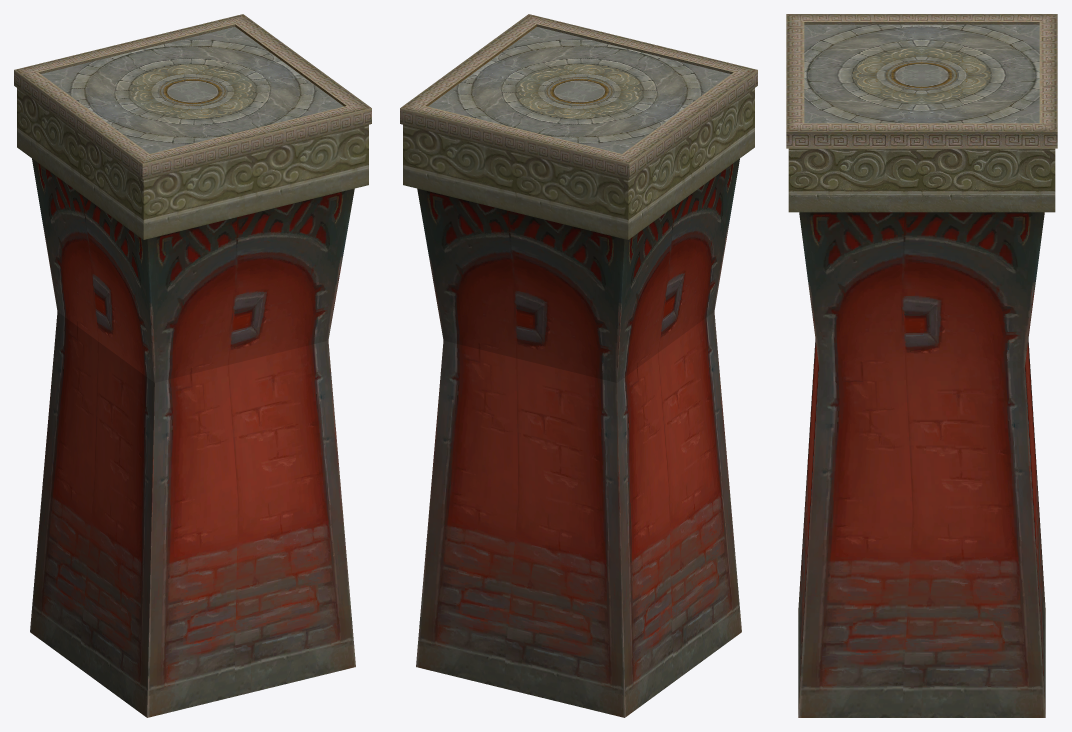
File: environment_Building_shitai_010_a.FBX
3 views of the same model, side by side, from view 1: azimuth 30°, elevation 25°; view 2: azimuth 150°, elevation 25°; view 3: azimuth 270°, elevation 25° (orthographic). The views are drawn at different scales.
Visible parts, largest first — view 1: environment_Building_shitai_010_d, environment_Building_shitai_010_b, environment_Building_shitai_010_a, environment_Building_shitai_010_c; view 2: environment_Building_shitai_010_d, environment_Building_shitai_010_b, environment_Building_shitai_010_a, environment_Building_shitai_010_c; view 3: environment_Building_shitai_010_d, environment_Building_shitai_010_a, environment_Building_shitai_010_b, environment_Building_shitai_010_c.
Boxes of the visible parts, left/top/right/bottom form: environment_Building_shitai_010_d: left=30, top=158, right=355, bottom=717; environment_Building_shitai_010_b: left=17, top=88, right=368, bottom=239; environment_Building_shitai_010_a: left=41, top=27, right=343, bottom=153; environment_Building_shitai_010_c: left=14, top=14, right=371, bottom=179; environment_Building_shitai_010_d: left=416, top=158, right=741, bottom=717; environment_Building_shitai_010_b: left=403, top=88, right=754, bottom=239; environment_Building_shitai_010_a: left=428, top=27, right=730, bottom=153; environment_Building_shitai_010_c: left=400, top=14, right=757, bottom=179; environment_Building_shitai_010_d: left=798, top=212, right=1045, bottom=717; environment_Building_shitai_010_a: left=804, top=24, right=1039, bottom=123; environment_Building_shitai_010_b: left=788, top=148, right=1055, bottom=212; environment_Building_shitai_010_c: left=786, top=14, right=1057, bottom=148.
Bounding box in the file's own units: 953 × 2229 × 927.
4 materials, 4 textured.
